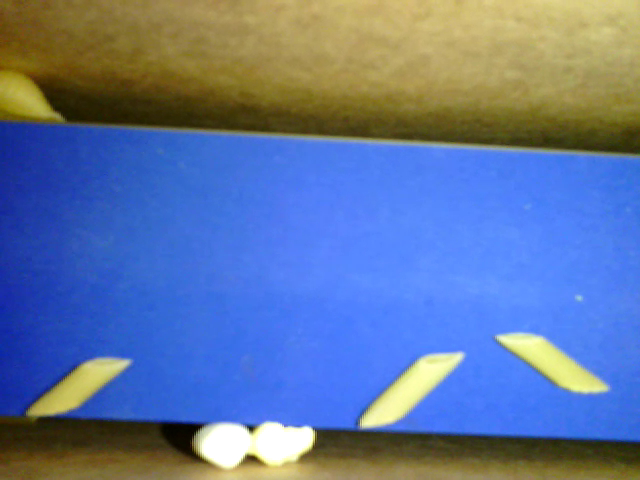penne: (357, 349, 468, 430), (494, 329, 609, 393), (22, 357, 134, 420)
shell: (3, 64, 67, 127)
